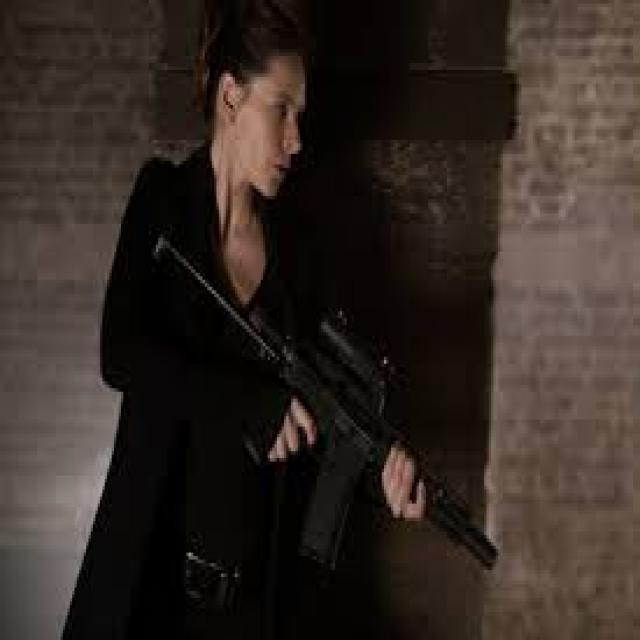weapon: (141, 222, 505, 582)
